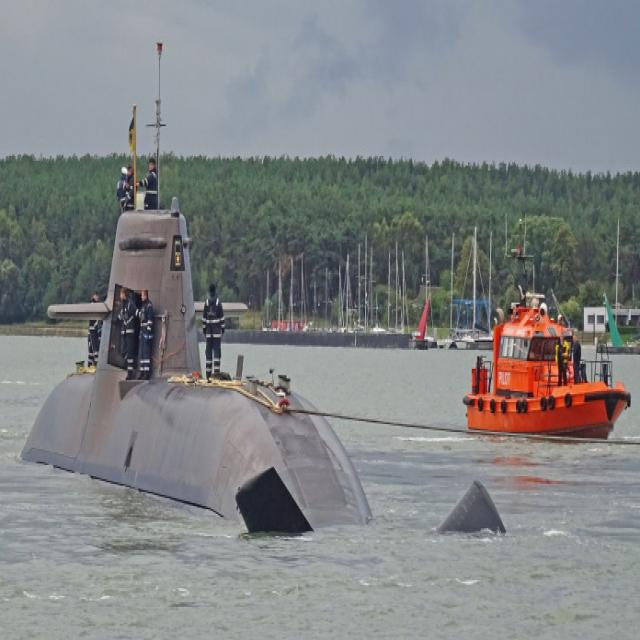submarine: (21, 209, 510, 537)
